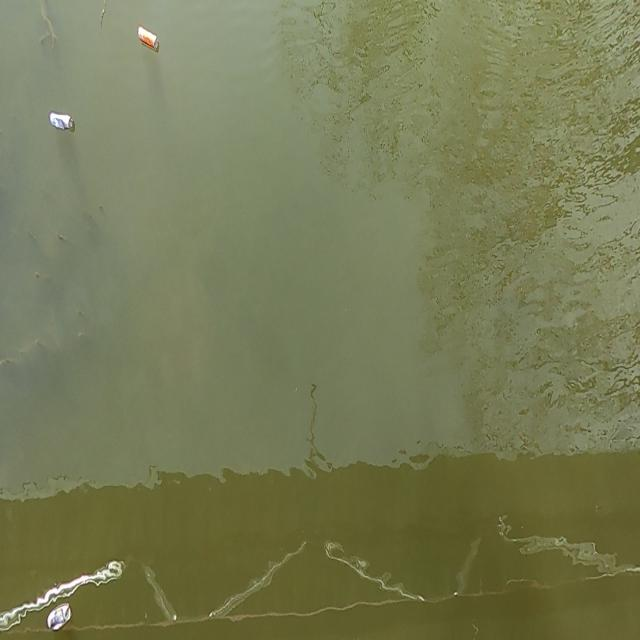Non plastique: (47, 108, 77, 137), (46, 603, 73, 635), (136, 22, 161, 56)
